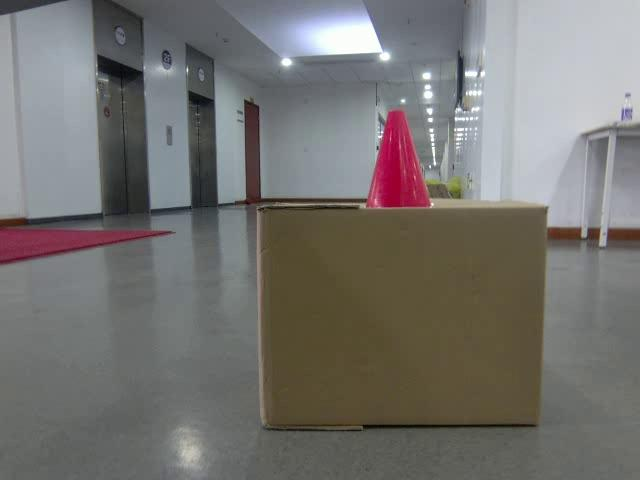red_barrel: (362, 106, 433, 209)
